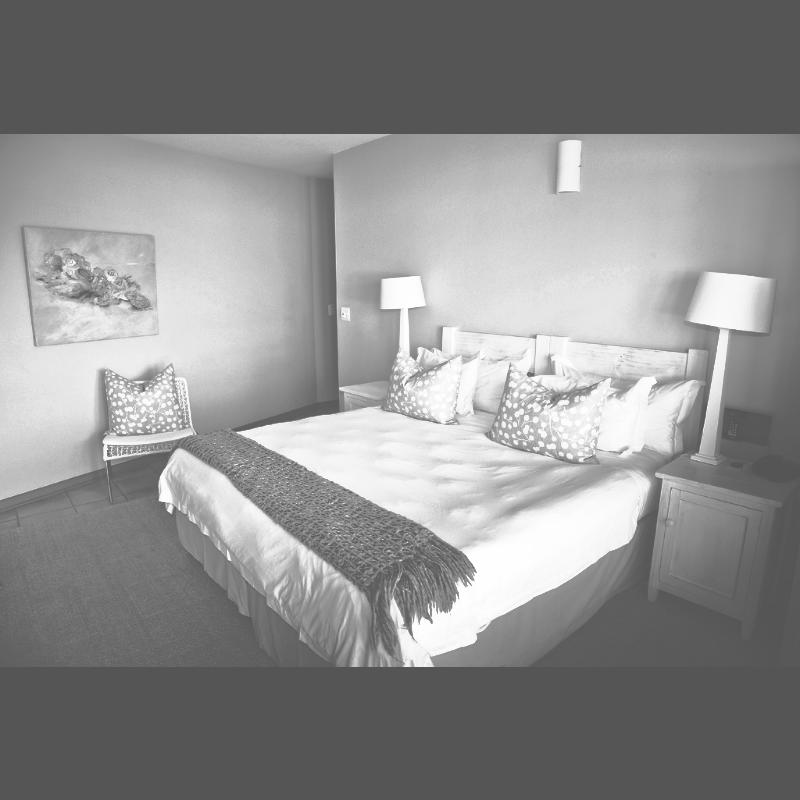pillow: (544, 355, 708, 467), (486, 360, 610, 464), (532, 371, 652, 457), (433, 344, 533, 420), (382, 350, 458, 428), (102, 362, 184, 430), (414, 342, 478, 418)
